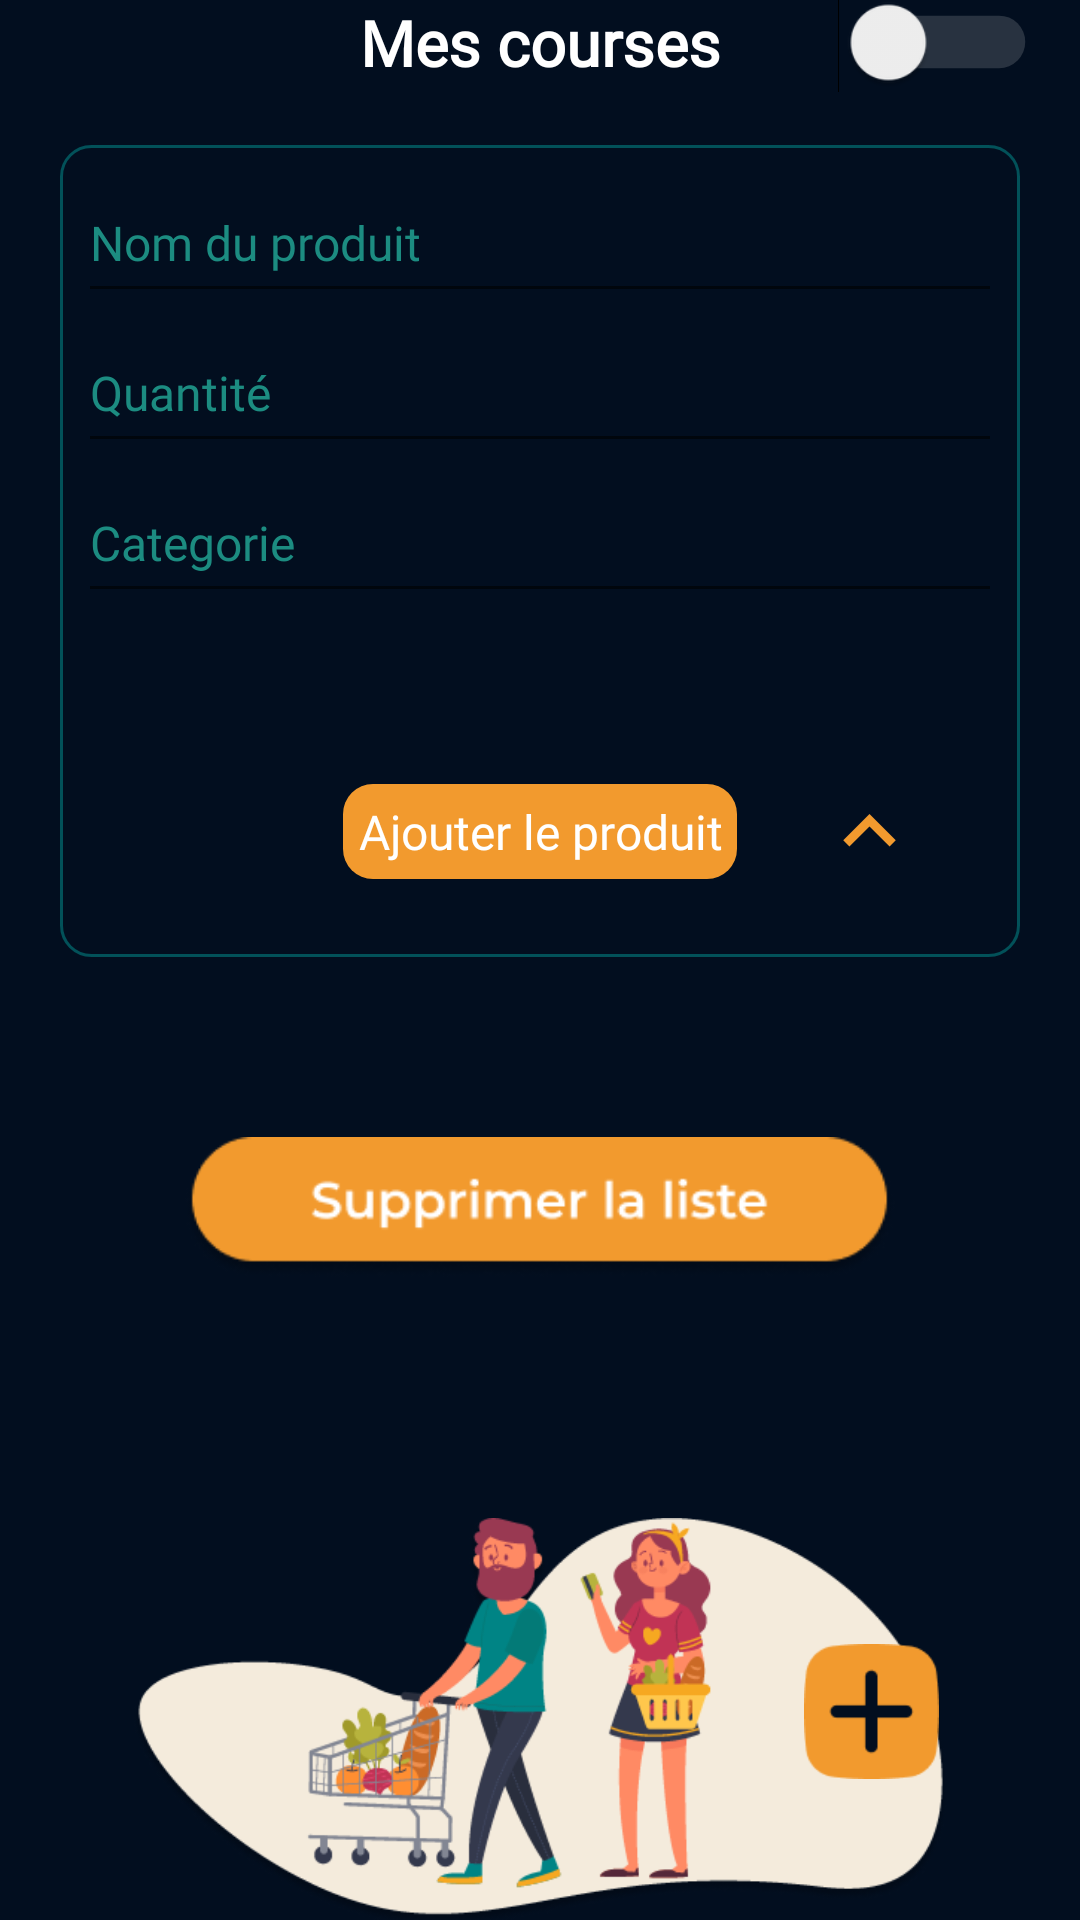

Locate icon controls on the screen. Image size 1080x1920, boxes as [x1=x1, y1=y1, x2=x2, y2=y2].
keyboard arrow up: [x1=843, y1=814, x2=896, y2=847]
